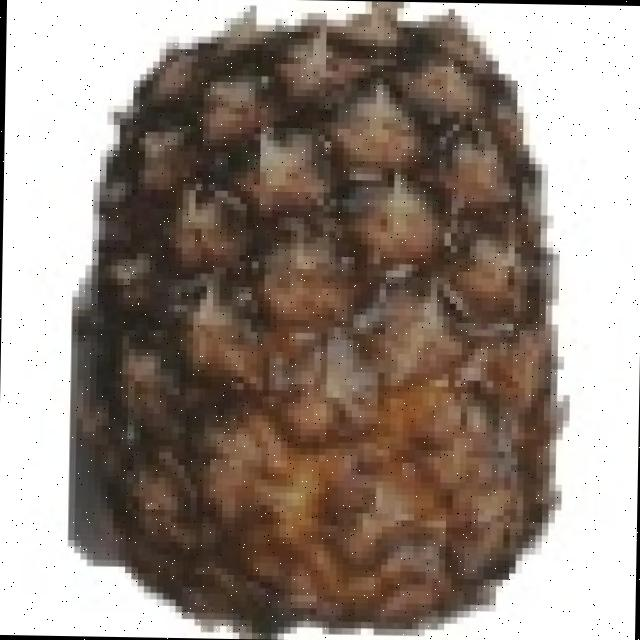pineapple: (87, 7, 568, 617), (100, 438, 119, 489)
